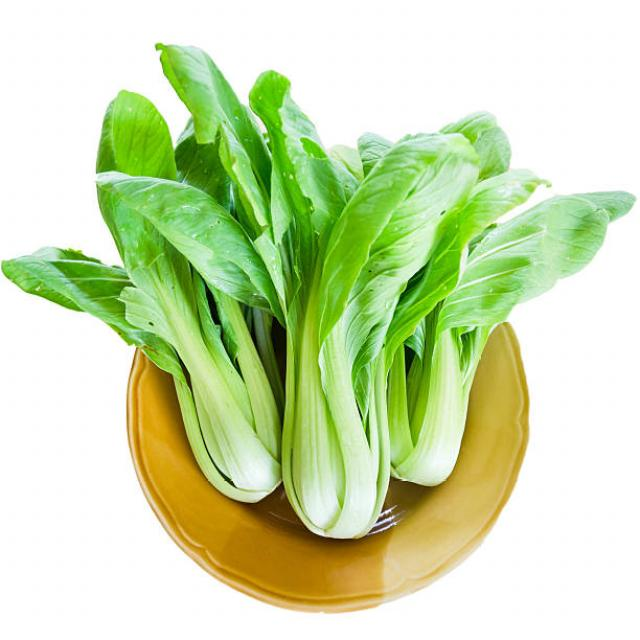bok choy: (294, 180, 431, 555), (158, 167, 274, 517), (420, 221, 503, 492)
